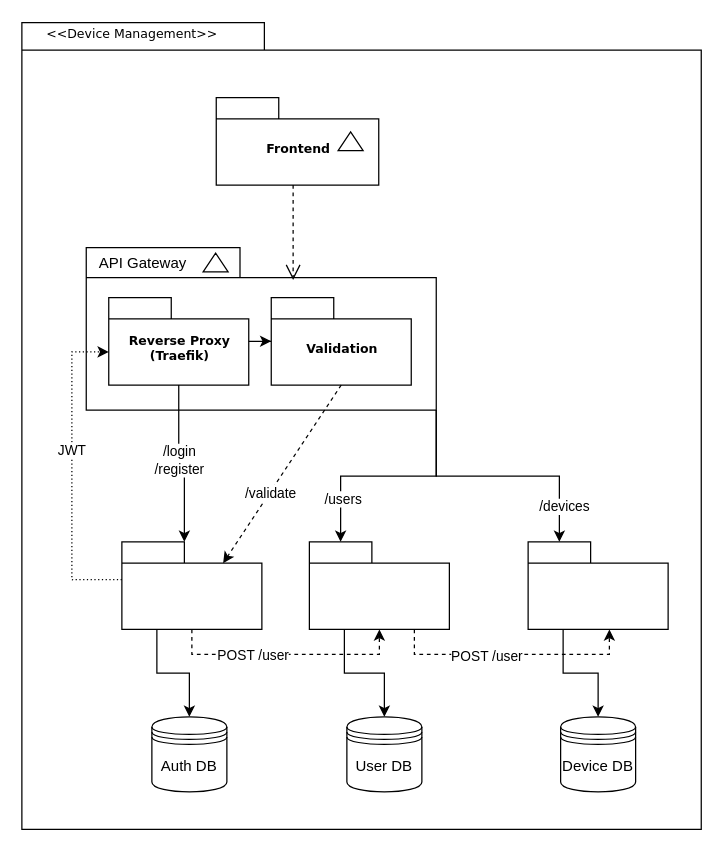
The diagram is 724 pixels wide and 851 high, and some of its shapes have lost their labels. The shapes that lost their labels are listed below. From the top down, each one's centre as x and y in pixels, then its label:
At point (191, 585): "Auth Service".
At point (378, 585): "User Service".
At point (597, 585): "Device Service".
